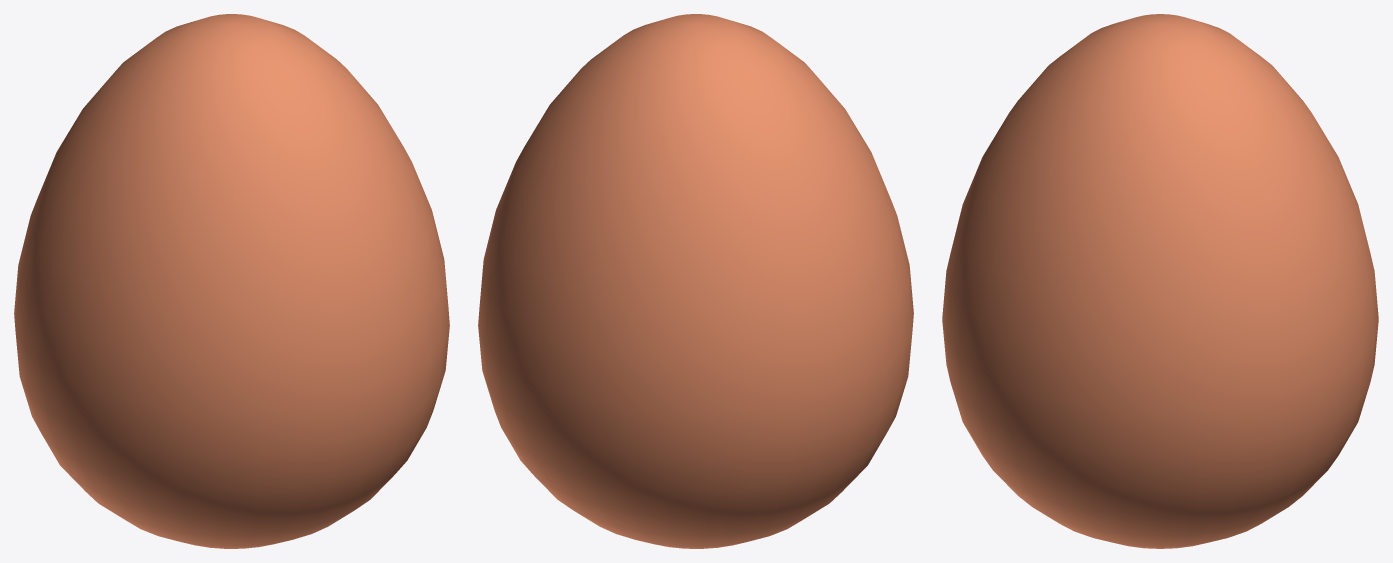
Rendered from Huevo.fbx.
3 views of the same model, side by side, from view 1: azimuth 30°, elevation 25°; view 2: azimuth 150°, elevation 25°; view 3: azimuth 270°, elevation 25° (orthographic).
Parts seen in each view (by area): view 1: Esfera; view 2: Esfera; view 3: Esfera.
Part boxes in pixels (x1=…): Esfera: x1=14, y1=14, x2=449, y2=548; Esfera: x1=478, y1=14, x2=913, y2=548; Esfera: x1=942, y1=14, x2=1378, y2=548.
Size of the model in its own units: 200 by 255 by 200.
